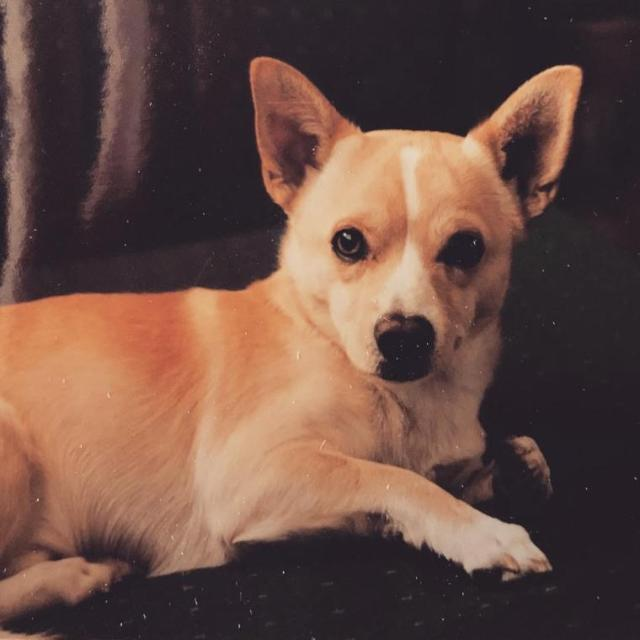Dog: (244, 47, 593, 408)
